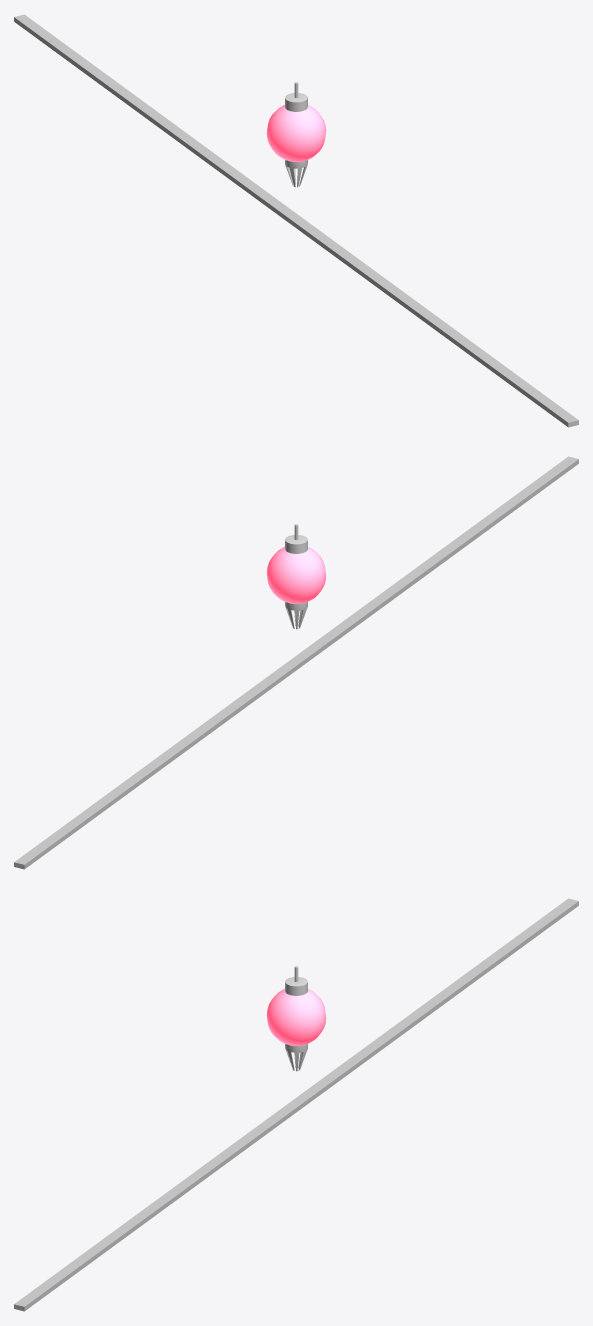
The model's file is fanart.fbx.
3 views of the same model, one above another, from view 1: azimuth 30°, elevation 25°; view 2: azimuth 150°, elevation 25°; view 3: azimuth 330°, elevation 25° (orthographic).
Visible parts, largest first — view 1: Cube, Sphere; view 2: Cube, Sphere; view 3: Cube, Sphere.
Part boxes in pixels (bbox=[...]): Cube: bbox=[14, 14, 578, 427]; Sphere: bbox=[266, 105, 326, 161]; Cube: bbox=[14, 456, 578, 869]; Sphere: bbox=[266, 547, 326, 603]; Cube: bbox=[14, 898, 578, 1311]; Sphere: bbox=[266, 989, 326, 1045].
Size of the model in its own units: 200 by 518 by 3697.
